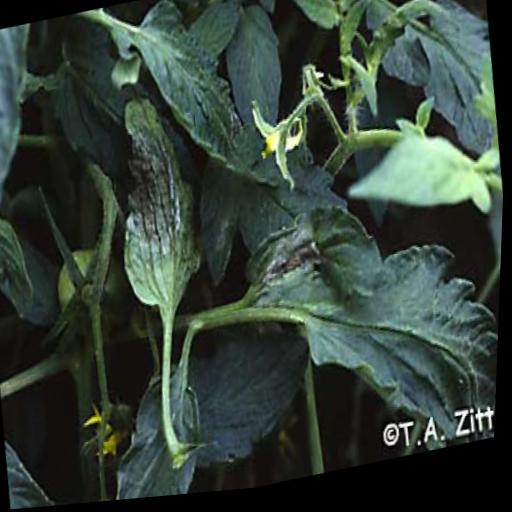Late Blight: (226, 177, 506, 459), (103, 79, 222, 357)
